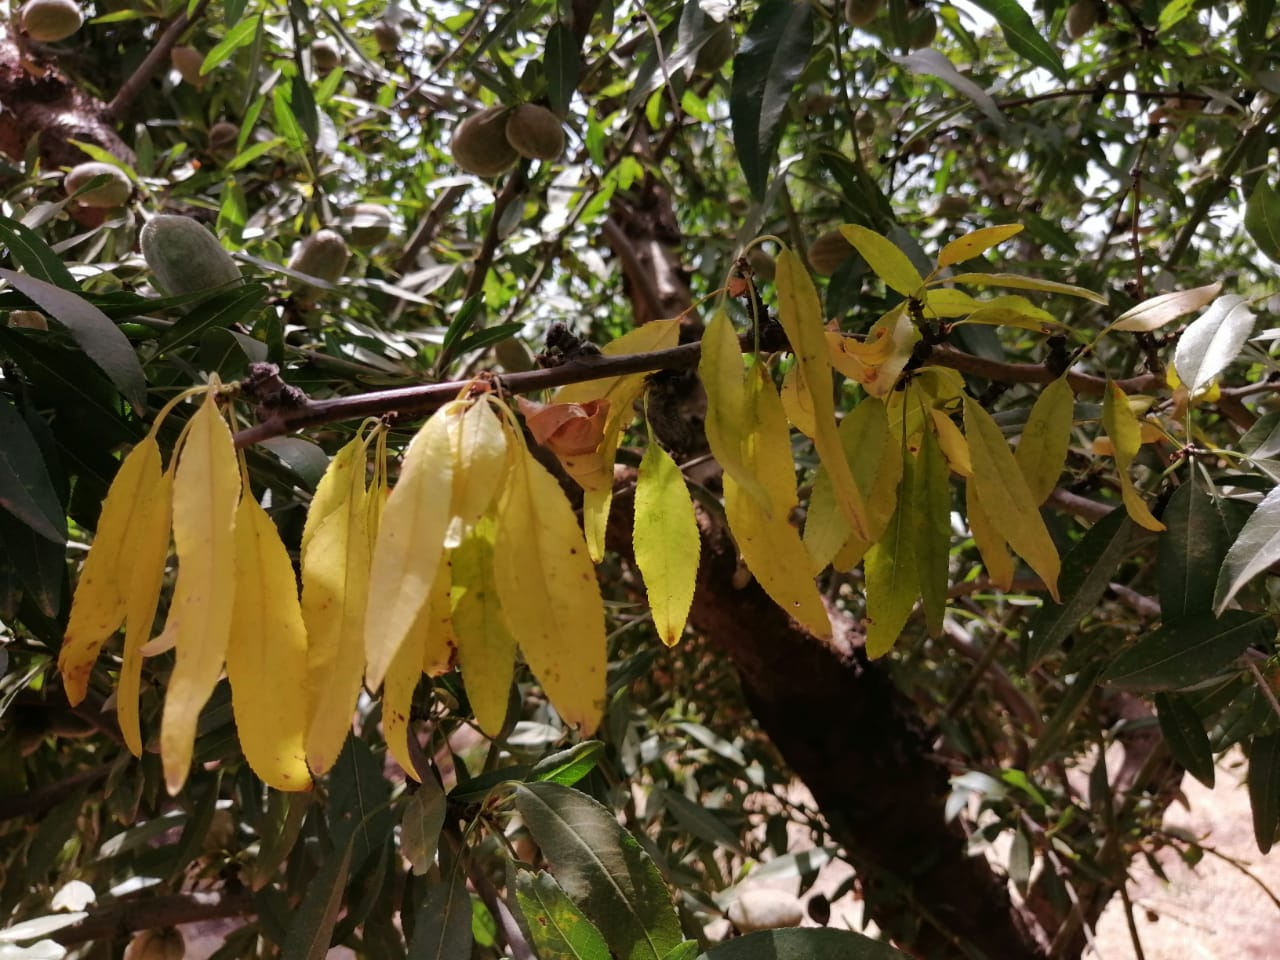chancre fusicocum: (56, 218, 1158, 796)
